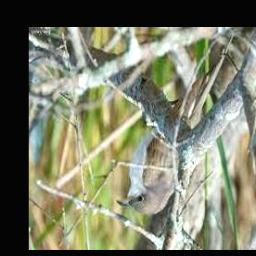Cuckoo: (116, 67, 219, 214)
